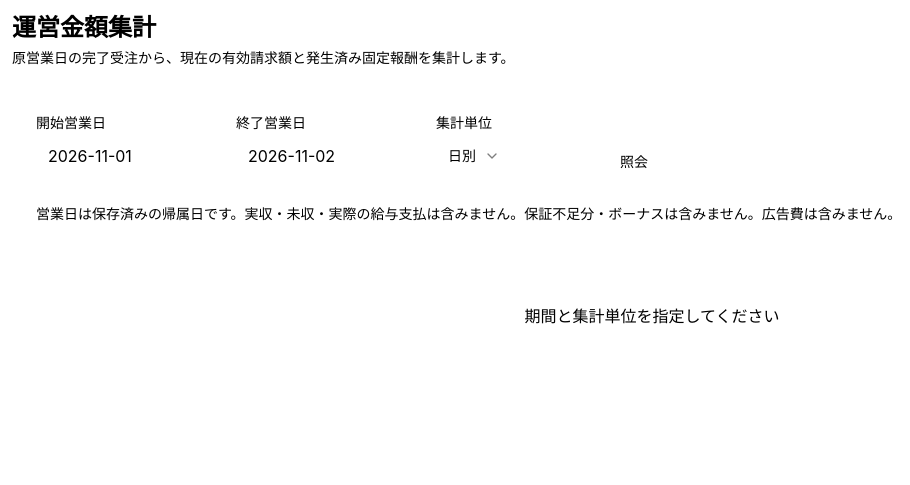
Test: legacy permission omits remuneration option and query parameter
Click the button "照会": (634, 162) x1=604 y1=144 x2=664 y2=180
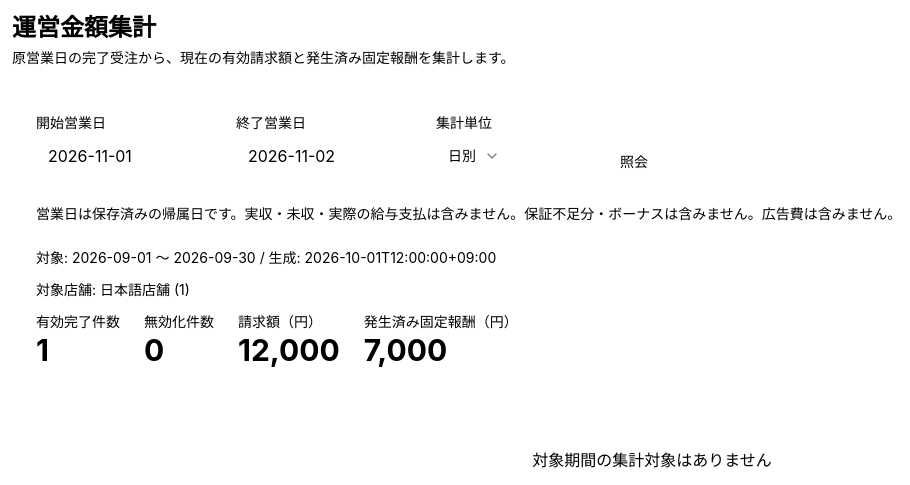
Expected: the text named "請求額（円）" is shown, x1=238 y1=332 x2=340 y2=368
